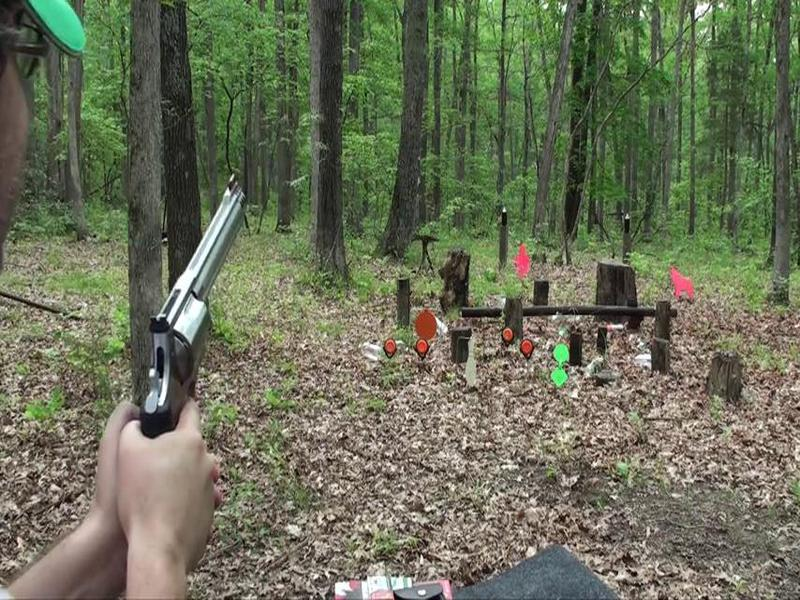Revolver: (129, 171, 258, 436)
